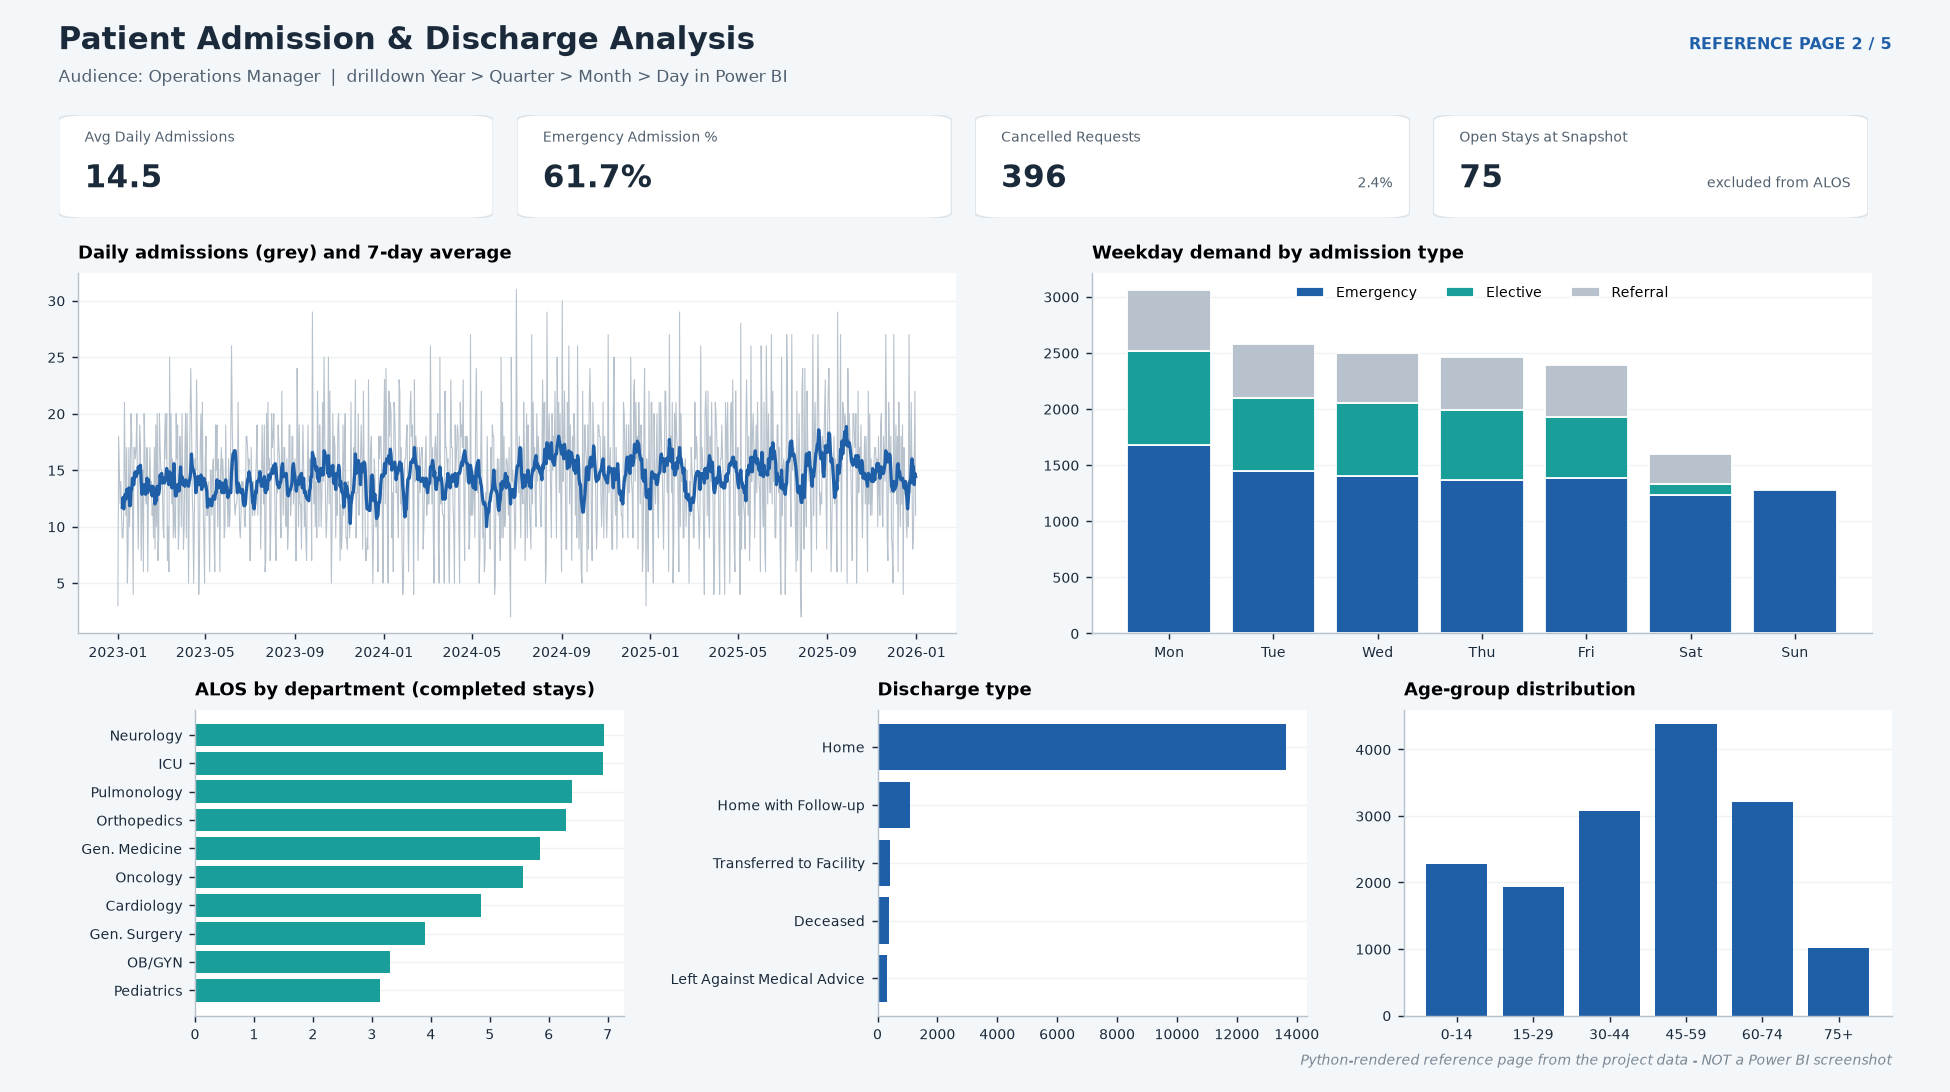

The page's visual inventory and layout, read from the dashboard file:
{"tool":"powerbi","page":{"name":"Admissions & Discharges","canvas":[1280,720],"ordinal":1},"visuals":[{"type":"textbox","box":[16,2,900,44],"z":100},{"type":"textbox","box":[16,42,1240,30],"z":200},{"type":"textbox","box":[780,690,484,30],"z":300},{"type":"slicer","title":"Year","fields":{"Values":["DimDate.Year"]},"box":[16,70,220,58],"z":400},{"type":"slicer","title":"Department","fields":{"Values":["DimDepartments.DepartmentName"]},"box":[248,70,220,58],"z":500},{"type":"slicer","title":"Admission type","fields":{"Values":["FactAdmissions.AdmissionType"]},"box":[480,70,220,58],"z":600},{"type":"lineChart","title":"Weekly admissions","fields":{"Category":["DimDate.WeekStart"],"Y":["_Measures.Total Admissions"]},"box":[16,126,628,220],"z":700},{"type":"clusteredColumnChart","title":"Admissions vs discharges by month","fields":{"Category":["DimDate.YearMonth"],"Y":["_Measures.Total Admissions","_Measures.Total Discharges"]},"box":[656,126,608,220],"z":800},{"type":"hundredPercentStackedColumnChart","title":"Admission type by year (%)","fields":{"Category":["DimDate.Year"],"Y":["_Measures.Total Admissions"],"Series":["FactAdmissions.AdmissionType"]},"box":[16,358,280,324],"z":900},{"type":"clusteredBarChart","title":"ALOS by department (days)","fields":{"Category":["DimDepartments.DepartmentName"],"Y":["_Measures.ALOS"]},"box":[308,358,300,324],"z":1000},{"type":"clusteredBarChart","title":"Discharge type","fields":{"Category":["FactAdmissions.DischargeType"],"Y":["_Measures.Total Discharges"]},"box":[620,358,300,324],"z":1100},{"type":"pivotTable","title":"Weekday profile (admissions)","fields":{"Rows":["DimDate.DayName"],"Columns":["FactAdmissions.AdmissionType"],"Values":["_Measures.Total Admissions"]},"box":[932,358,332,324],"z":1200}]}

Visuals, with their boxes in screenshot pixels (x1, y1, x2, y2), scaled from the page's 1280x720 canvas onto the 1950x1092 screenshot:
textbox: bbox=(24, 3, 1395, 70)
textbox: bbox=(24, 64, 1913, 109)
textbox: bbox=(1188, 1046, 1926, 1091)
"Year" slicer: bbox=(24, 106, 360, 194)
"Department" slicer: bbox=(378, 106, 713, 194)
"Admission type" slicer: bbox=(731, 106, 1066, 194)
"Weekly admissions" lineChart: bbox=(24, 191, 981, 525)
"Admissions vs discharges by month" clusteredColumnChart: bbox=(999, 191, 1926, 525)
"Admission type by year (%)" hundredPercentStackedColumnChart: bbox=(24, 543, 451, 1034)
"ALOS by department (days)" clusteredBarChart: bbox=(469, 543, 926, 1034)
"Discharge type" clusteredBarChart: bbox=(945, 543, 1402, 1034)
"Weekday profile (admissions)" pivotTable: bbox=(1420, 543, 1926, 1034)
